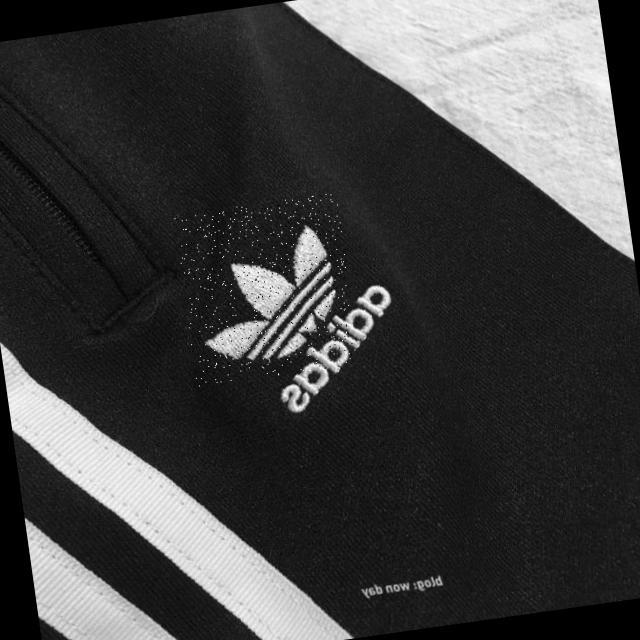Adidas: (174, 193, 361, 387)
